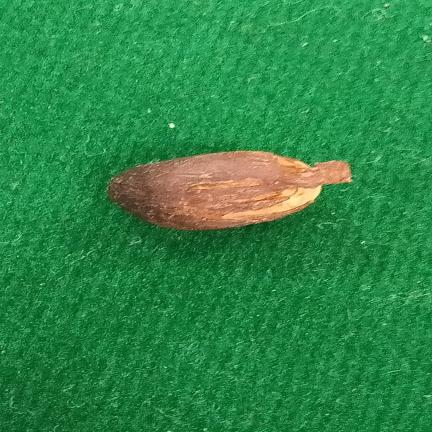husk: (108, 151, 352, 230)
